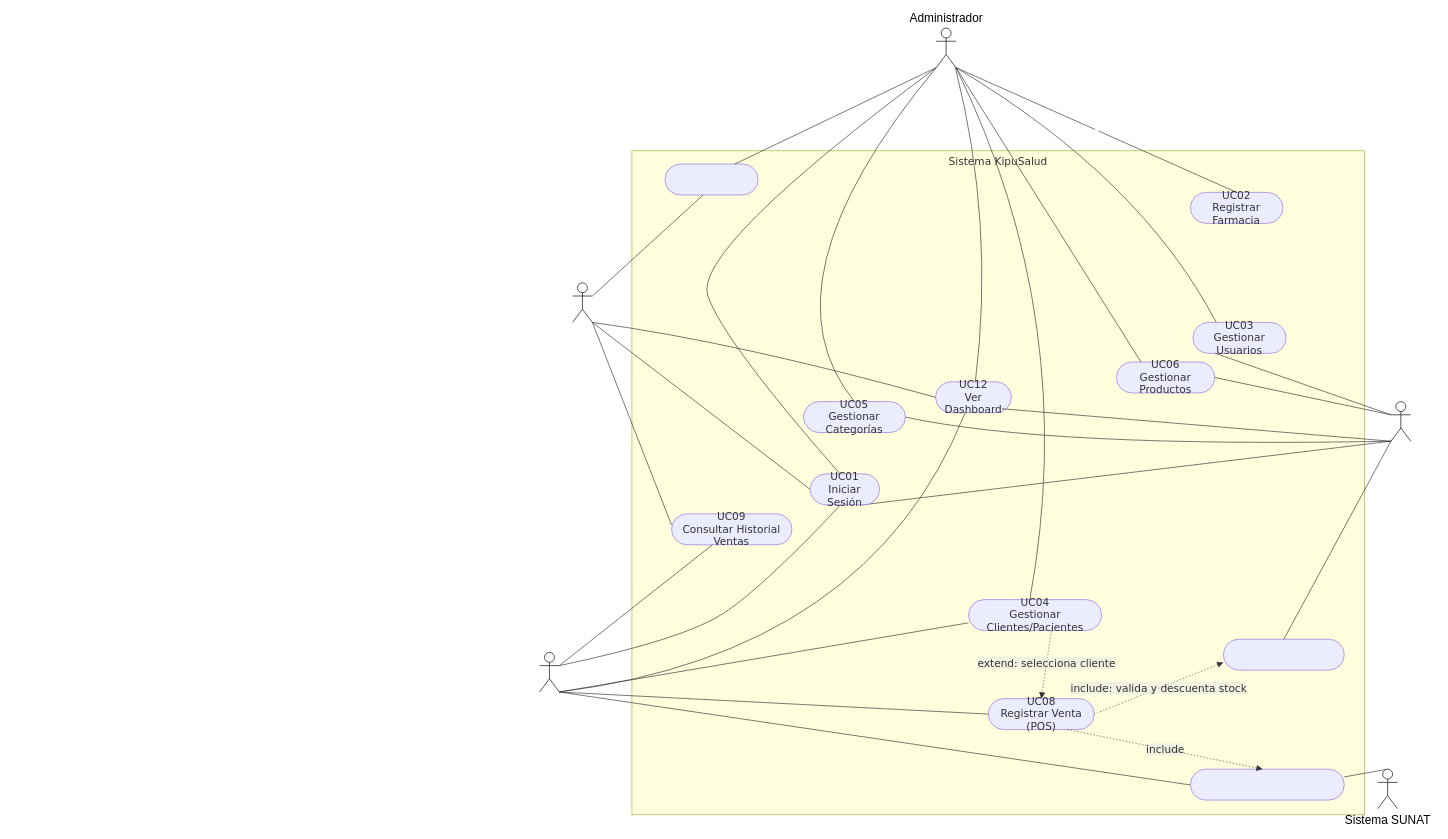
Some shapes in this 1448 by 839 pixel diagram are drawn without their labels. The shapes that lost their labels are listed below. From the top down, each one's centre as x and y in pixels, then its label:
the point at 711,179: UC10 Gestionar Personal
the point at 582,302: Supervisor
the point at 1400,421: Farmacéutico
the point at 549,672: Cajero
the point at 1283,654: UC07 Controlar Stock/Inventario
the point at 1267,784: UC11 Emitir Comprobantes Electrónicos
